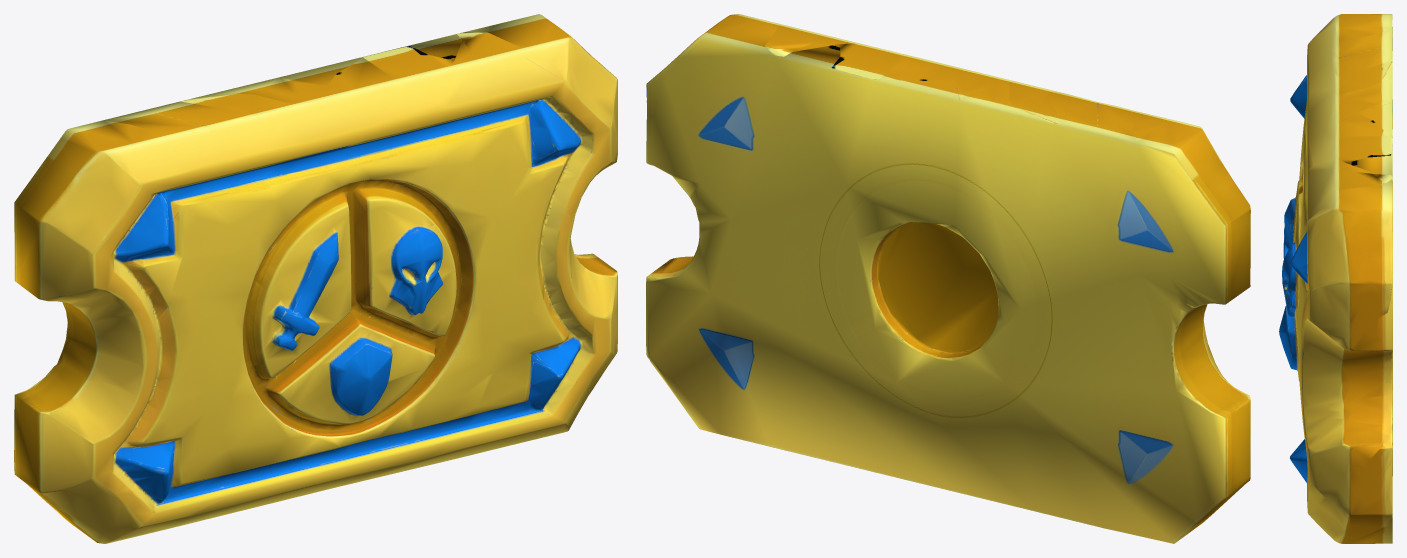
Rendered from MDL_SegmentChoiceTicket.fbx.
3 renders of one model, left to right at view 1: azimuth 30°, elevation 25°; view 2: azimuth 150°, elevation 25°; view 3: azimuth 270°, elevation 25°, orthographic. The views are drawn at different scales.
Visible parts, largest first — view 1: Mesh1.0; view 2: Mesh1.0; view 3: Mesh1.0.
Boxes of the visible parts, x1,y1,x2,y2 form: Mesh1.0: [14, 14, 617, 543]; Mesh1.0: [646, 14, 1250, 543]; Mesh1.0: [1279, 14, 1392, 543].
Size of the model in its own units: 191 by 124 by 38.17.
Materials: 1 (1 with a texture image).
